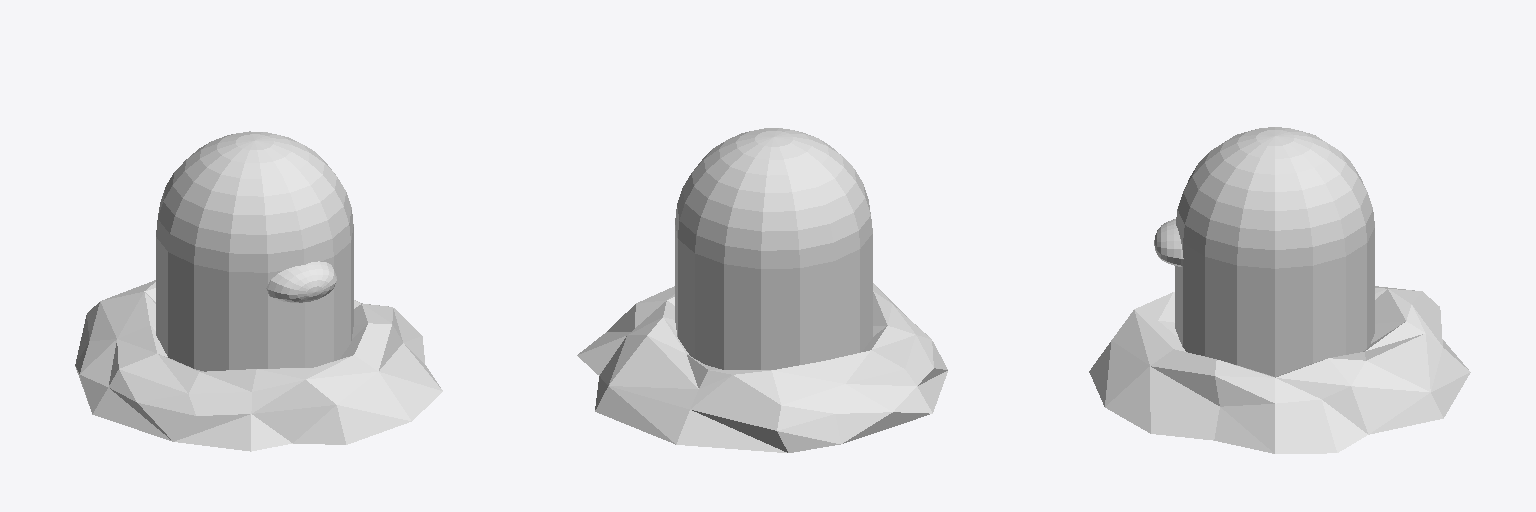
Rendered from Diglett.obj.
3 renders of one model, left to right at view 1: azimuth 30°, elevation 25°; view 2: azimuth 150°, elevation 25°; view 3: azimuth 270°, elevation 25°, orthographic.
Parts seen in each view (by area): view 1: polygon0, polygon2, polygon1; view 2: polygon0, polygon2; view 3: polygon0, polygon2, polygon1.
Boxes of the visible parts, x1,y1,x2,y2 form: polygon0: [156, 131, 353, 371]; polygon2: [75, 280, 442, 451]; polygon1: [229, 190, 350, 272]; polygon0: [675, 128, 872, 369]; polygon2: [577, 283, 947, 452]; polygon0: [1154, 127, 1374, 376]; polygon2: [1089, 286, 1470, 453]; polygon1: [1176, 166, 1215, 255].
Bounding box in the file's own units: 2.93 × 2.01 × 2.95.